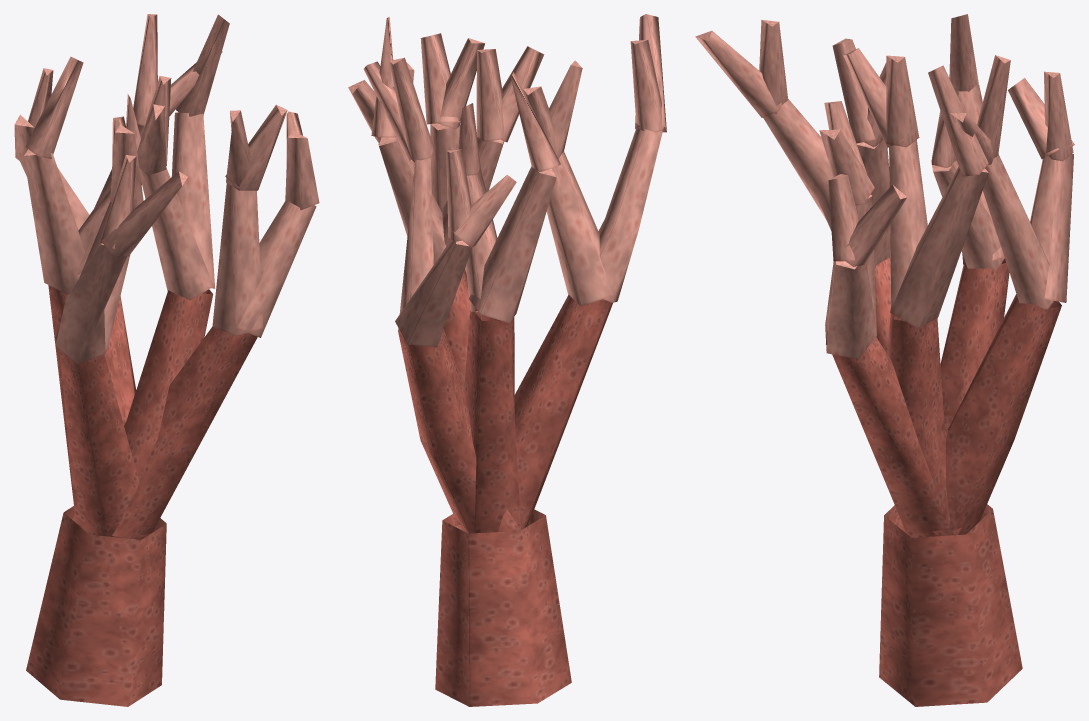
File: plant_shallows_coral_branch_a_lod2.glb
3 renders of one model, left to right at view 1: azimuth 30°, elevation 25°; view 2: azimuth 150°, elevation 25°; view 3: azimuth 270°, elevation 25°, orthographic. The views are drawn at different scales.
Visible parts, largest first — view 1: plant_shallows_coral_branch_a; view 2: plant_shallows_coral_branch_a; view 3: plant_shallows_coral_branch_a.
Part boxes in pixels (bbox=[...]): plant_shallows_coral_branch_a: bbox=[14, 14, 319, 706]; plant_shallows_coral_branch_a: bbox=[348, 14, 666, 706]; plant_shallows_coral_branch_a: bbox=[695, 14, 1074, 706].
Size of the model in its own units: 0.2558 by 0.602 by 0.306.
1 material, 1 textured.
